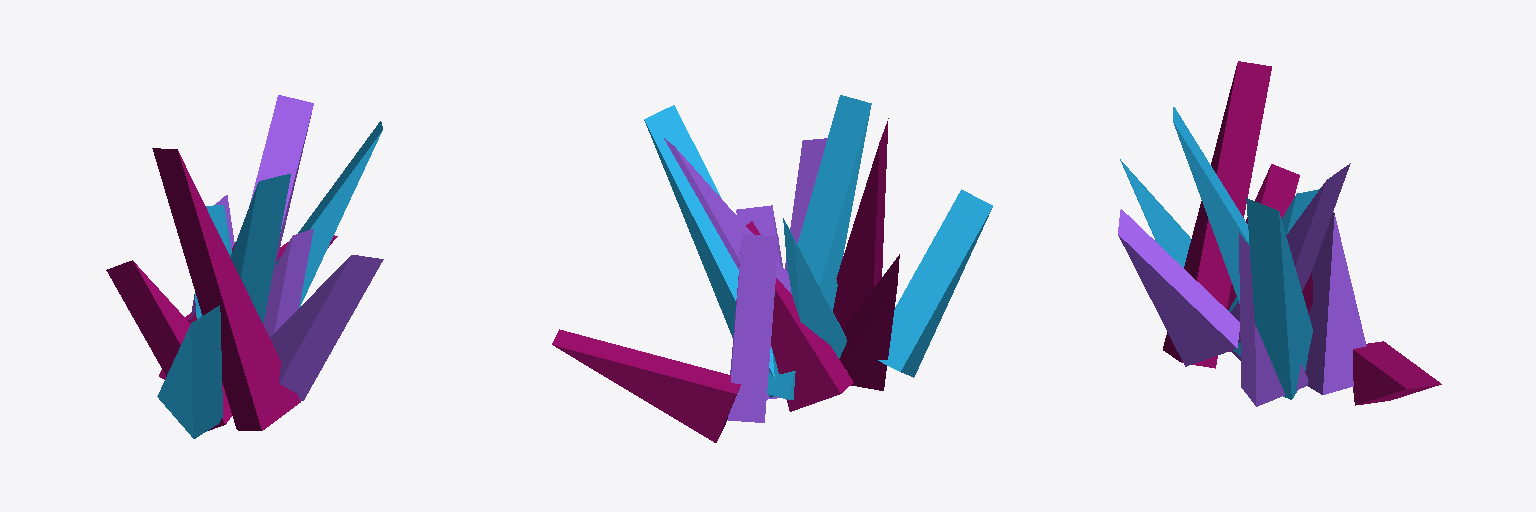
Rendered from Prism.obj.
The picture shows the model from 3 angles: view 1: azimuth 30°, elevation 25°; view 2: azimuth 150°, elevation 25°; view 3: azimuth 270°, elevation 25°; orthographic projection.
Visible parts, largest first — view 1: Prism; view 2: Prism; view 3: Prism.
Part boxes in pixels (x1,y1,x2,y2): Prism: (106, 95, 383, 438); Prism: (552, 95, 992, 442); Prism: (1118, 61, 1441, 406).
Size of the model in its own units: 0.729 by 0.703 by 0.7063.